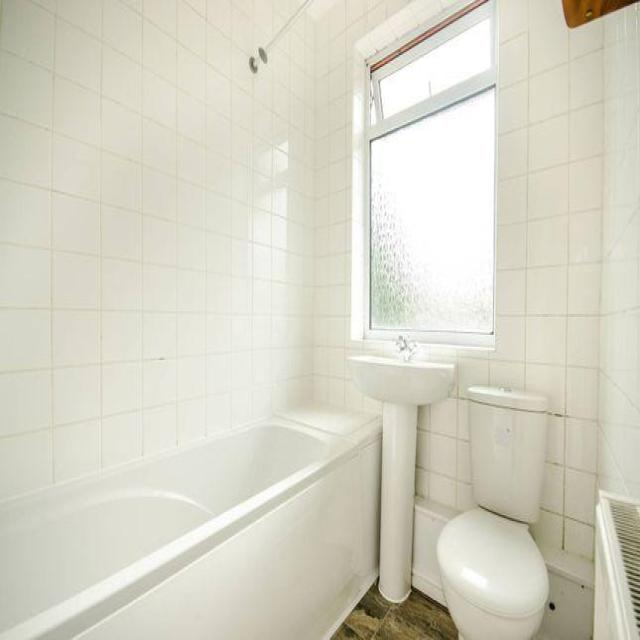Wall: (0, 0, 412, 500), (418, 0, 640, 558), (333, 583, 457, 640)
